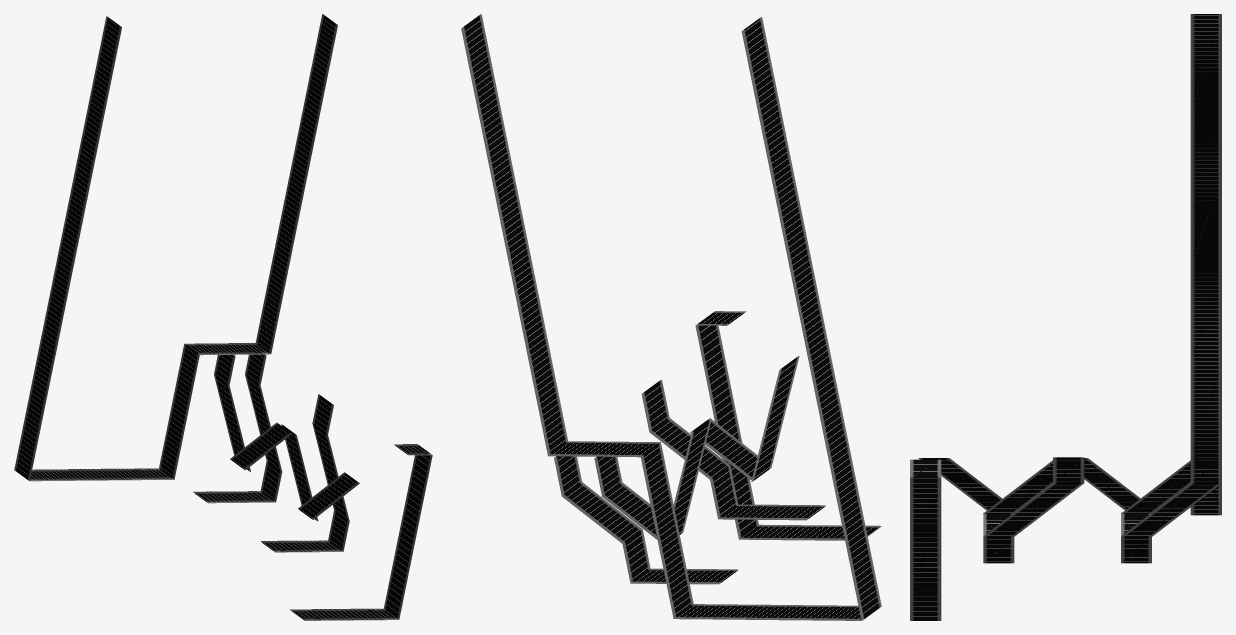
Rendered from _0BUILDING_CORNER13_SUB2.obj.
3 views of the same model, side by side, from view 1: azimuth 30°, elevation 25°; view 2: azimuth 150°, elevation 25°; view 3: azimuth 270°, elevation 25° (orthographic). The views are drawn at different scales.
Parts seen in each view (by area): view 1: _0BUILDING_CORNER13_SUB2_Scene.031; view 2: _0BUILDING_CORNER13_SUB2_Scene.031; view 3: _0BUILDING_CORNER13_SUB2_Scene.031.
Part boxes in pixels (box(x1,y1,x2,y2)): _0BUILDING_CORNER13_SUB2_Scene.031: box(14, 14, 432, 620); _0BUILDING_CORNER13_SUB2_Scene.031: box(461, 14, 881, 620); _0BUILDING_CORNER13_SUB2_Scene.031: box(910, 14, 1221, 620).
Bounding box in the file's own units: 1169 × 1904 × 1002.
